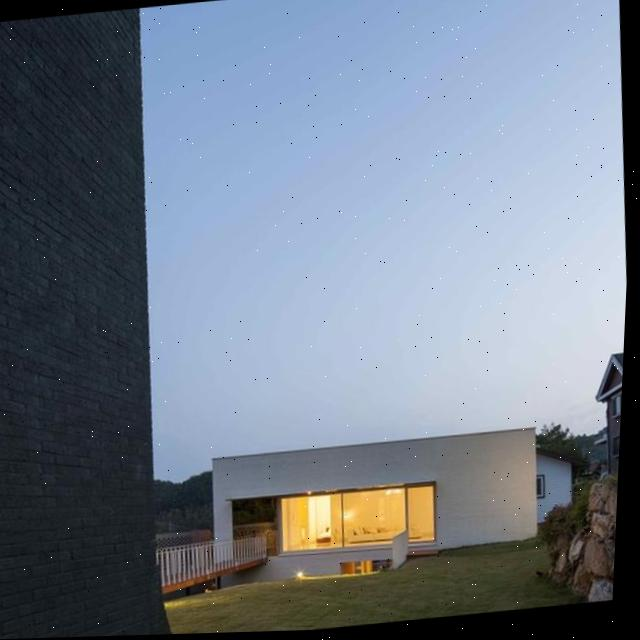building: (0, 5, 187, 640), (207, 423, 543, 585), (580, 339, 624, 487), (528, 434, 580, 520)
